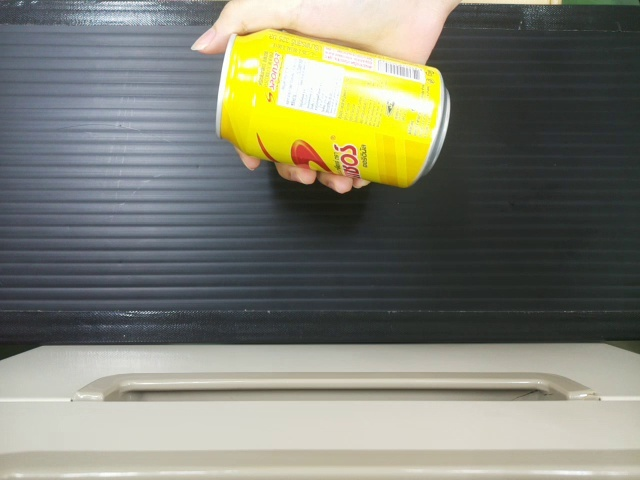can: (211, 28, 446, 184)
